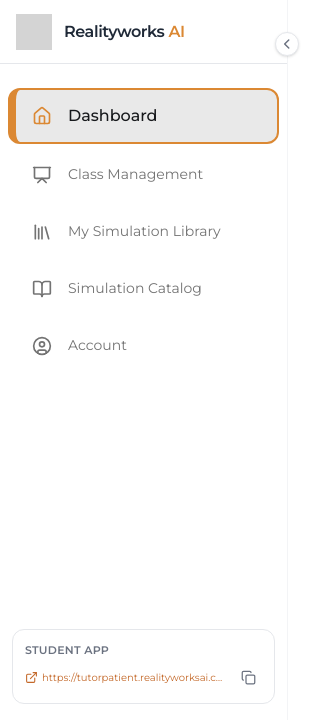
Test: Sidebar – Error Handling › Accessibility resilience › expand button has accessible aria-label after collapse
Click the button named "collapse sidebar": (287, 44) top-left (275, 32), bottom-right (299, 56)
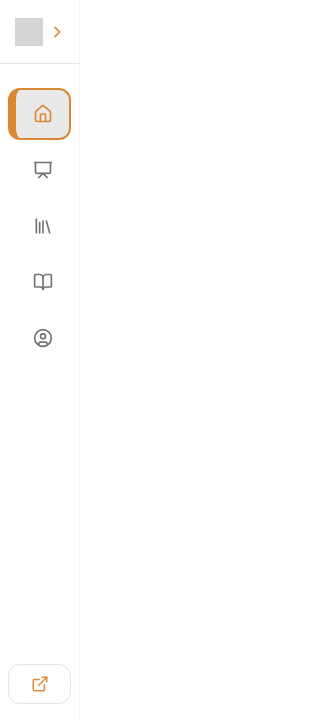
Expected: the button named "expand sidebar" is shown, top-left (16, 14), bottom-right (63, 50)
